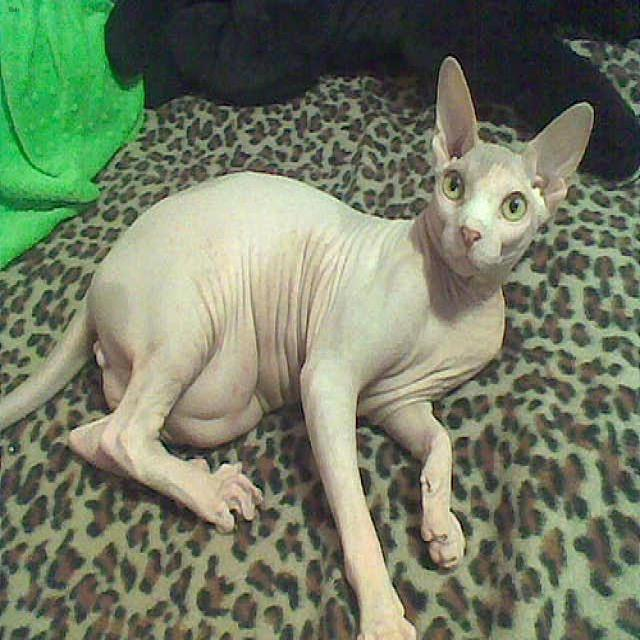Sphynx: (427, 54, 598, 282)
